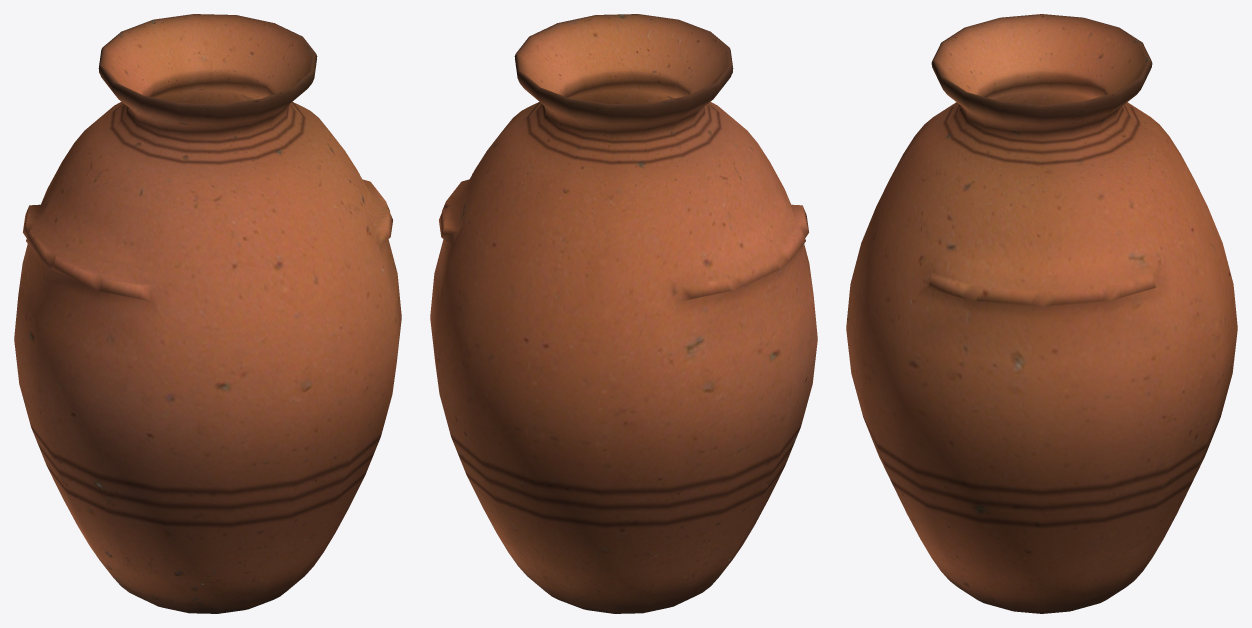
File: Pottery 3.FBX
The picture shows the model from 3 angles, left to right: view 1: azimuth 30°, elevation 25°; view 2: azimuth 150°, elevation 25°; view 3: azimuth 270°, elevation 25°; orthographic projection.
Visible parts, largest first — view 1: Pottery 3; view 2: Pottery 3; view 3: Pottery 3.
Part boxes in pixels (x1,y1,x2,y2): Pottery 3: [14, 14, 401, 613]; Pottery 3: [430, 14, 817, 613]; Pottery 3: [846, 14, 1237, 613].
Size of the model in its own units: 1200 by 1797 by 1200.
Materials: 1 (1 with a texture image).
